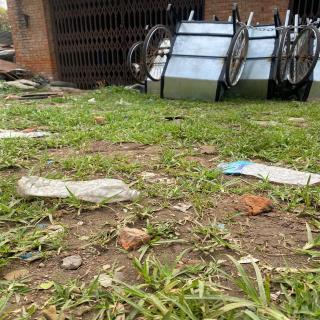Plastic-bottle: (13, 173, 147, 209), (216, 158, 320, 190)
